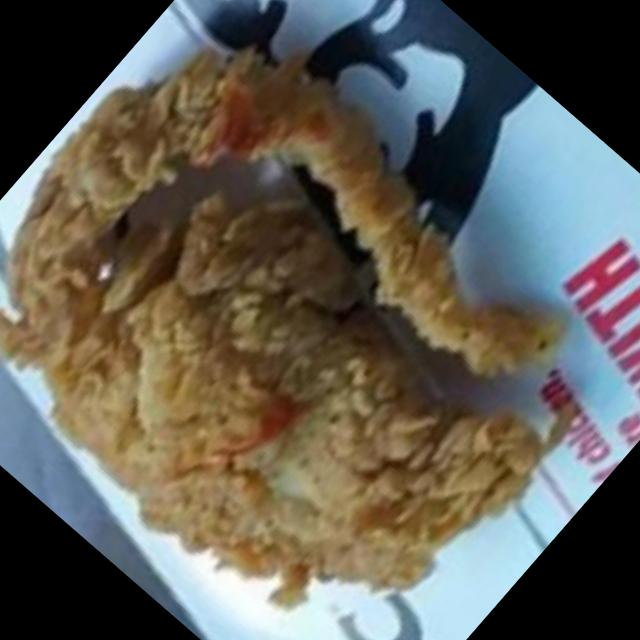Fried Chicken: (0, 45, 545, 610)
